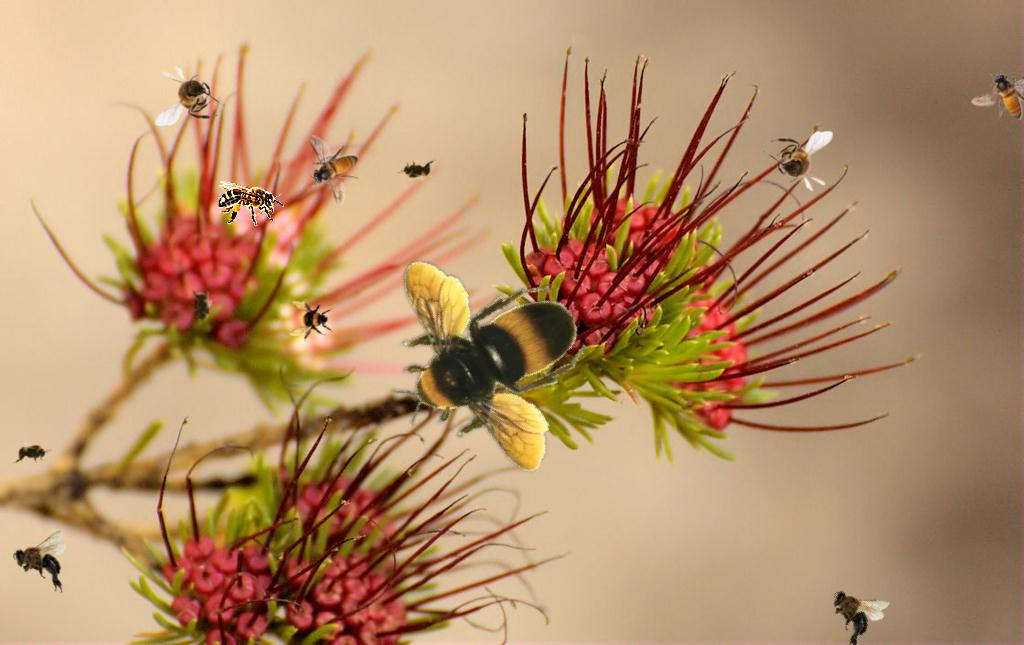Bee: (335, 215, 625, 496), (812, 573, 893, 645), (763, 131, 833, 192), (155, 65, 225, 126), (309, 135, 359, 206), (13, 531, 66, 593), (218, 181, 284, 226), (971, 70, 1024, 120), (289, 299, 333, 343), (12, 442, 52, 464), (191, 287, 213, 327), (397, 159, 437, 181)
